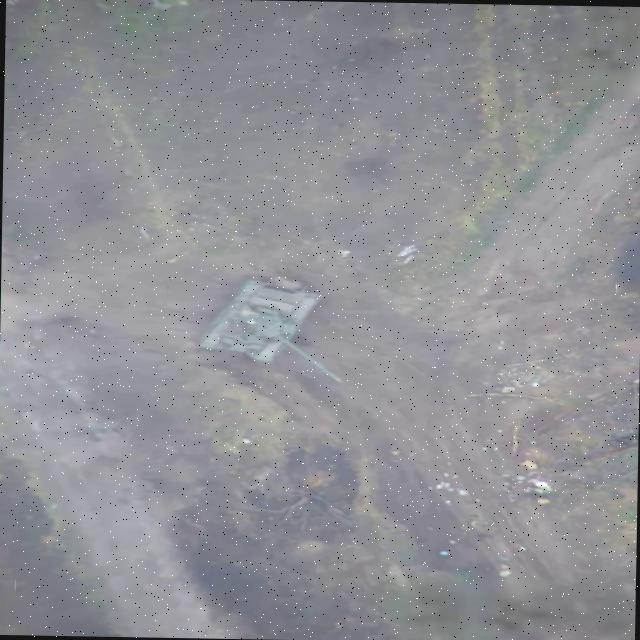MBT: (192, 274, 350, 383)
